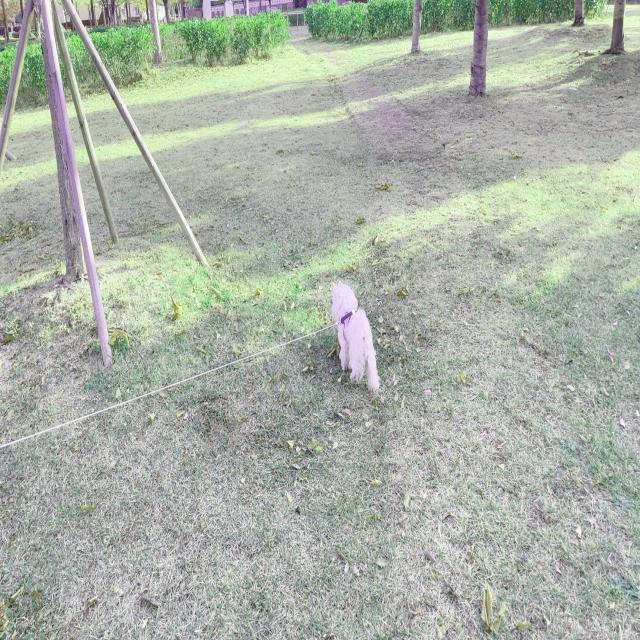Dog: (331, 278, 382, 394)
